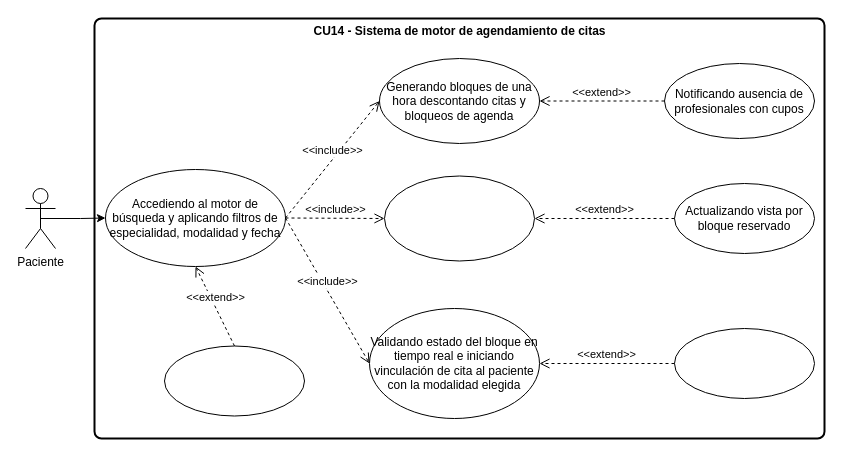
Some shapes in this 843 by 456 pixel diagram are drawn without their labels. The box of each missing label's shape, as (x1, y1, x2, y2) in pixels:
Alertando catálogo de especialidades no disponible: (164, 345, 304, 416)
Redirigiendo a inicio de sesión por expiración: (674, 328, 814, 398)
Seleccionando bloque horario disponible para proceder con la reserva: (384, 175, 534, 261)
